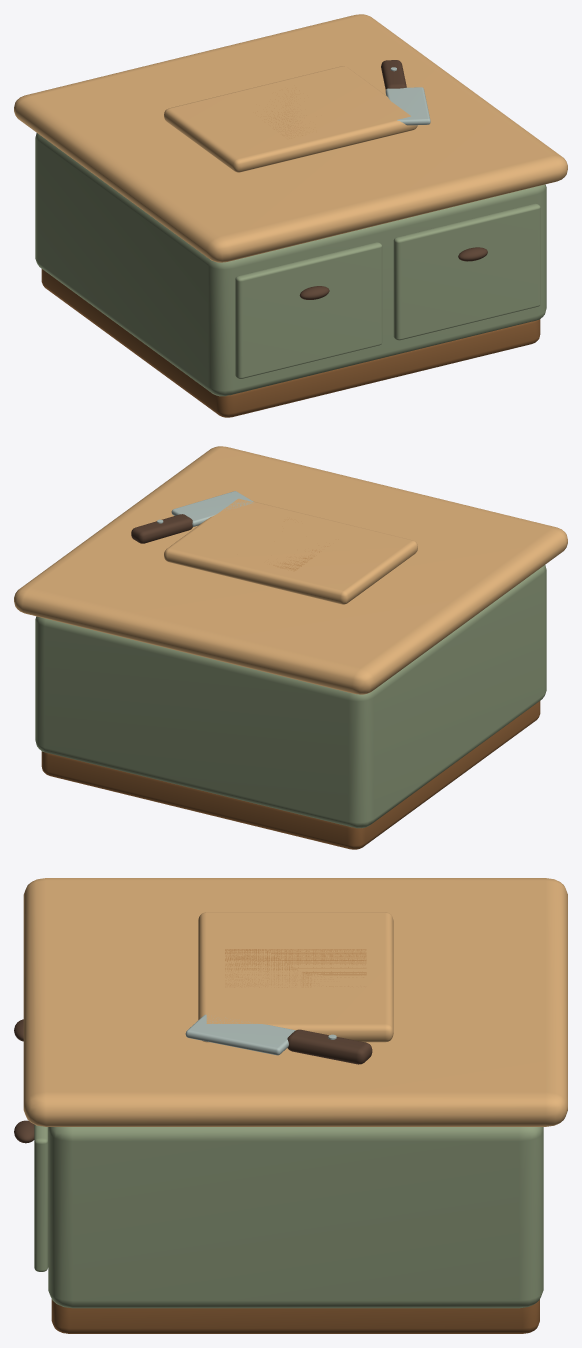
Rendered from station-prep.obj.
3 views of the same model, one above another, from view 1: azimuth 30°, elevation 25°; view 2: azimuth 150°, elevation 25°; view 3: azimuth 270°, elevation 25° (orthographic). The views are drawn at different scales.
Visible parts, largest first — view 1: station-prep_oakLight, station-prep_sage, station-prep_oakDark, station-prep_cocoa, station-prep_metal; view 2: station-prep_oakLight, station-prep_sage, station-prep_oakDark, station-prep_metal, station-prep_cocoa; view 3: station-prep_oakLight, station-prep_sage, station-prep_oakDark, station-prep_oak, station-prep_metal, station-prep_cocoa.
Part boxes in pixels (x1=…): station-prep_oakLight: x1=14, y1=14, x2=567, y2=262; station-prep_sage: x1=35, y1=133, x2=546, y2=396; station-prep_oakDark: x1=41, y1=269, x2=540, y2=417; station-prep_cocoa: x1=299, y1=60, x2=487, y2=299; station-prep_metal: x1=385, y1=67, x2=430, y2=125; station-prep_oakLight: x1=14, y1=446, x2=567, y2=694; station-prep_sage: x1=35, y1=565, x2=546, y2=828; station-prep_oakDark: x1=41, y1=701, x2=540, y2=849; station-prep_metal: x1=157, y1=491, x2=253, y2=526; station-prep_cocoa: x1=131, y1=514, x2=192, y2=543; station-prep_oakLight: x1=23, y1=878, x2=567, y2=1126; station-prep_sage: x1=34, y1=1124, x2=543, y2=1308; station-prep_oakDark: x1=51, y1=1299, x2=539, y2=1333; station-prep_oak: x1=225, y1=949, x2=366, y2=987; station-prep_metal: x1=185, y1=1014, x2=336, y2=1055; station-prep_cocoa: x1=14, y1=1019, x2=372, y2=1143.
Bounding box in the file's own units: 0.78 × 0.4341 × 0.794.
